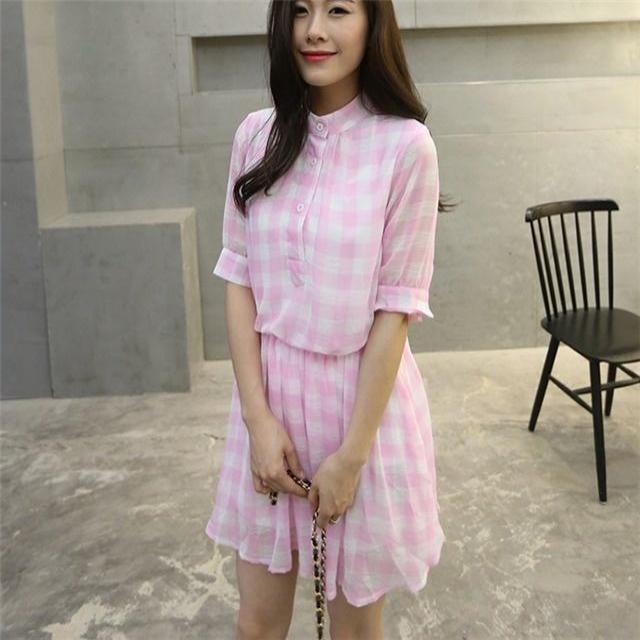short sleeve dress: (207, 89, 448, 609)
